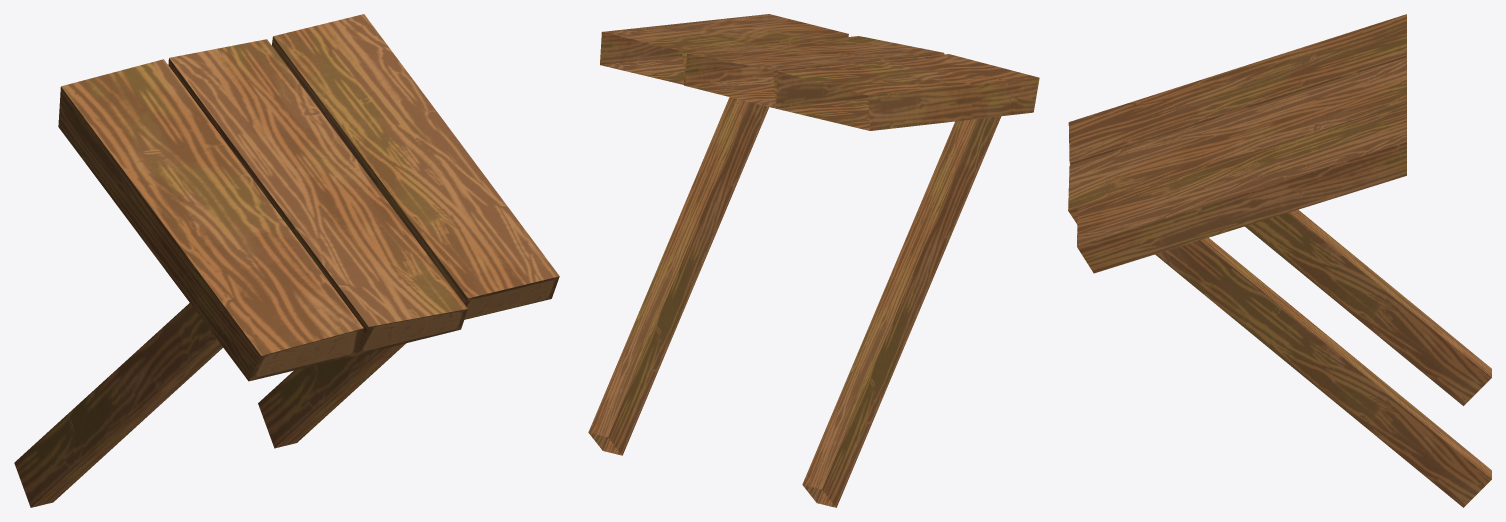
File: Window_Roof_Thin.gltf
3 views of the same model, side by side, from view 1: azimuth 30°, elevation 25°; view 2: azimuth 150°, elevation 25°; view 3: azimuth 270°, elevation 25° (orthographic). The views are drawn at different scales.
Visible parts, largest first — view 1: Window_Roof_Thin; view 2: Window_Roof_Thin; view 3: Window_Roof_Thin.
Boxes of the visible parts, <box> form: Window_Roof_Thin: <box>14,14,559,507</box>; Window_Roof_Thin: <box>588,14,1039,507</box>; Window_Roof_Thin: <box>1068,14,1491,507</box>.
Bounding box in the file's own units: 0.8518 × 1.18 × 1.18.
2 materials, 2 textured.
